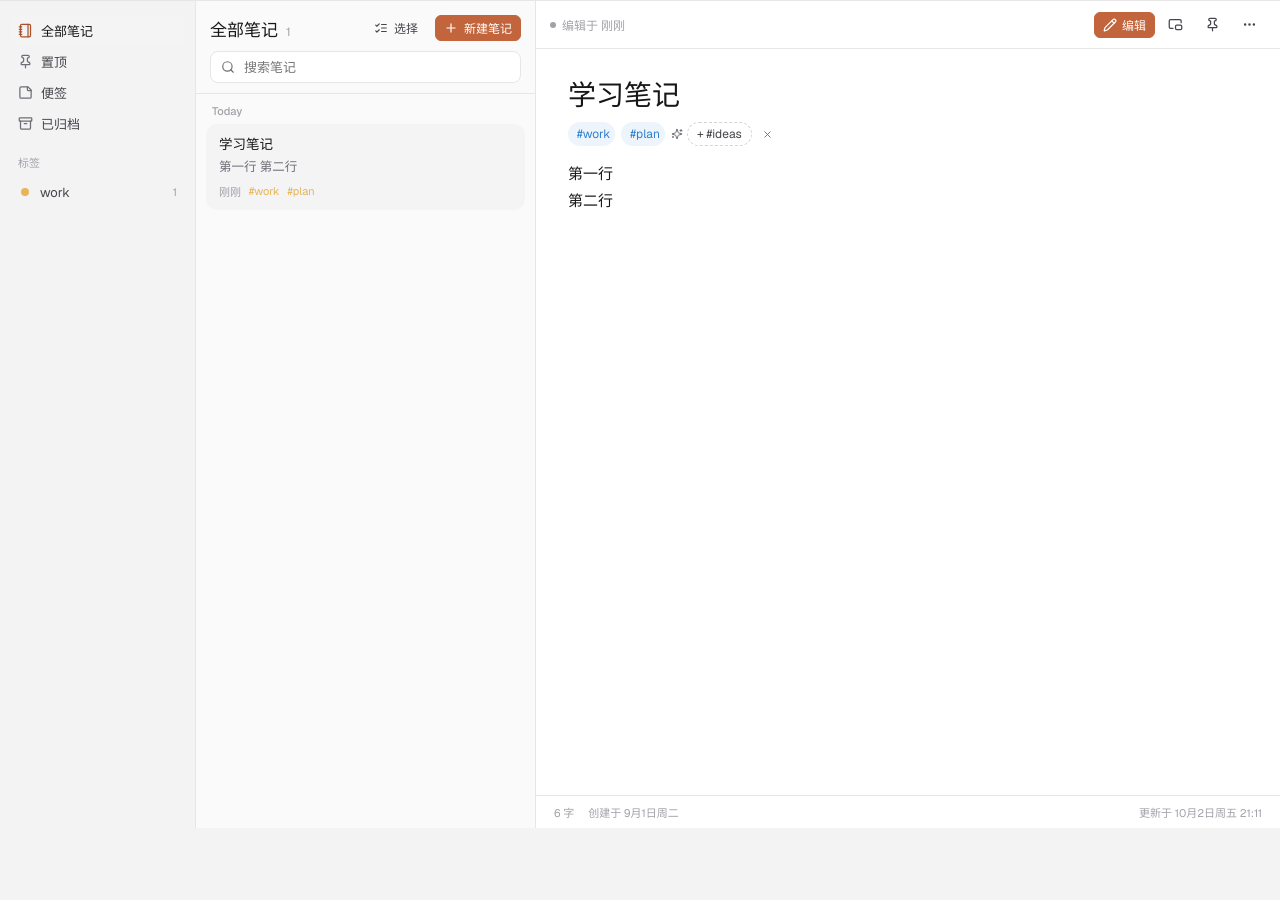
Scenario: NotesPage › replaces the body with the polished text and fills the title
Click the button "编辑": (1124, 24) [1094,12,1155,38]
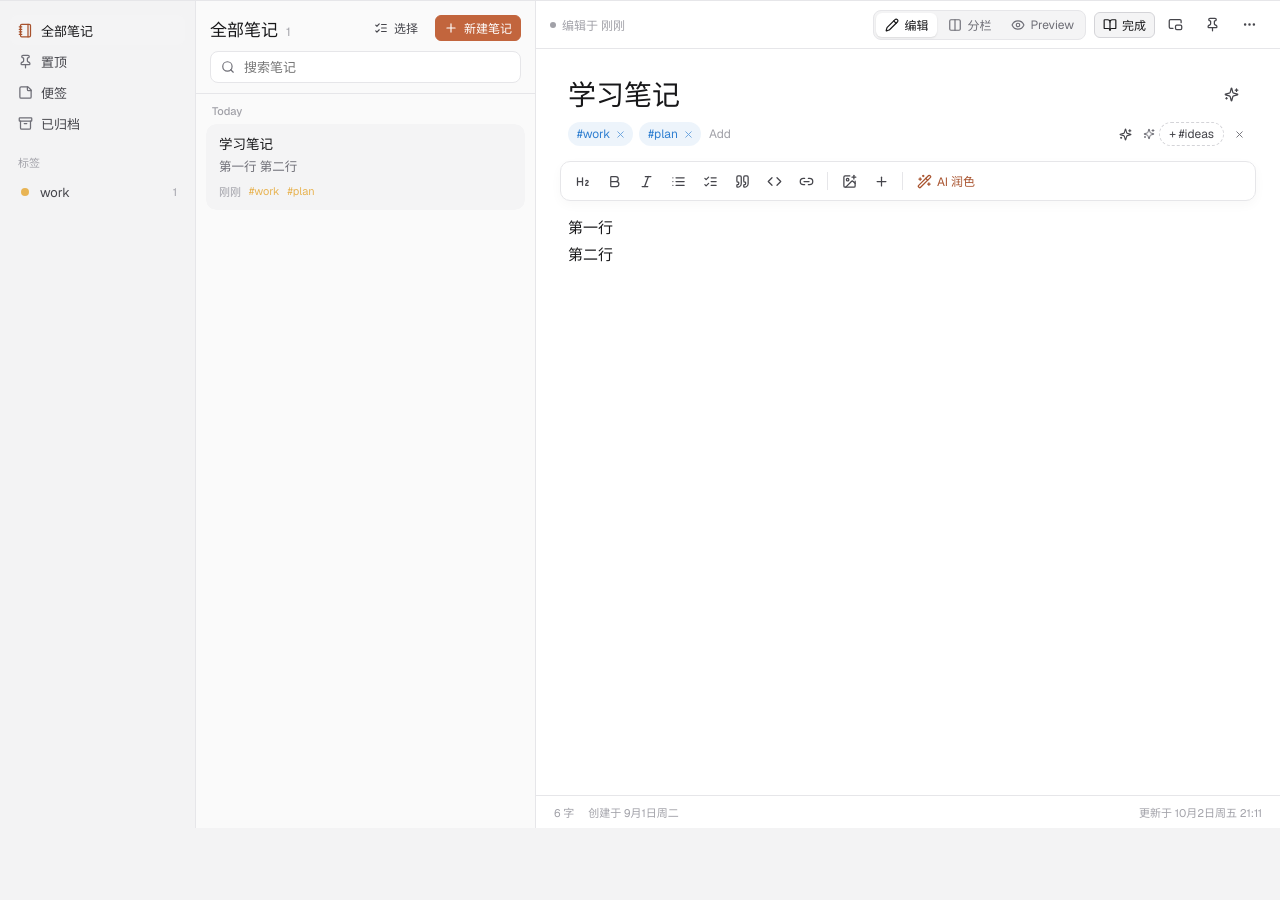
Click the button "AI 润色": (946, 181) [909,167,983,195]
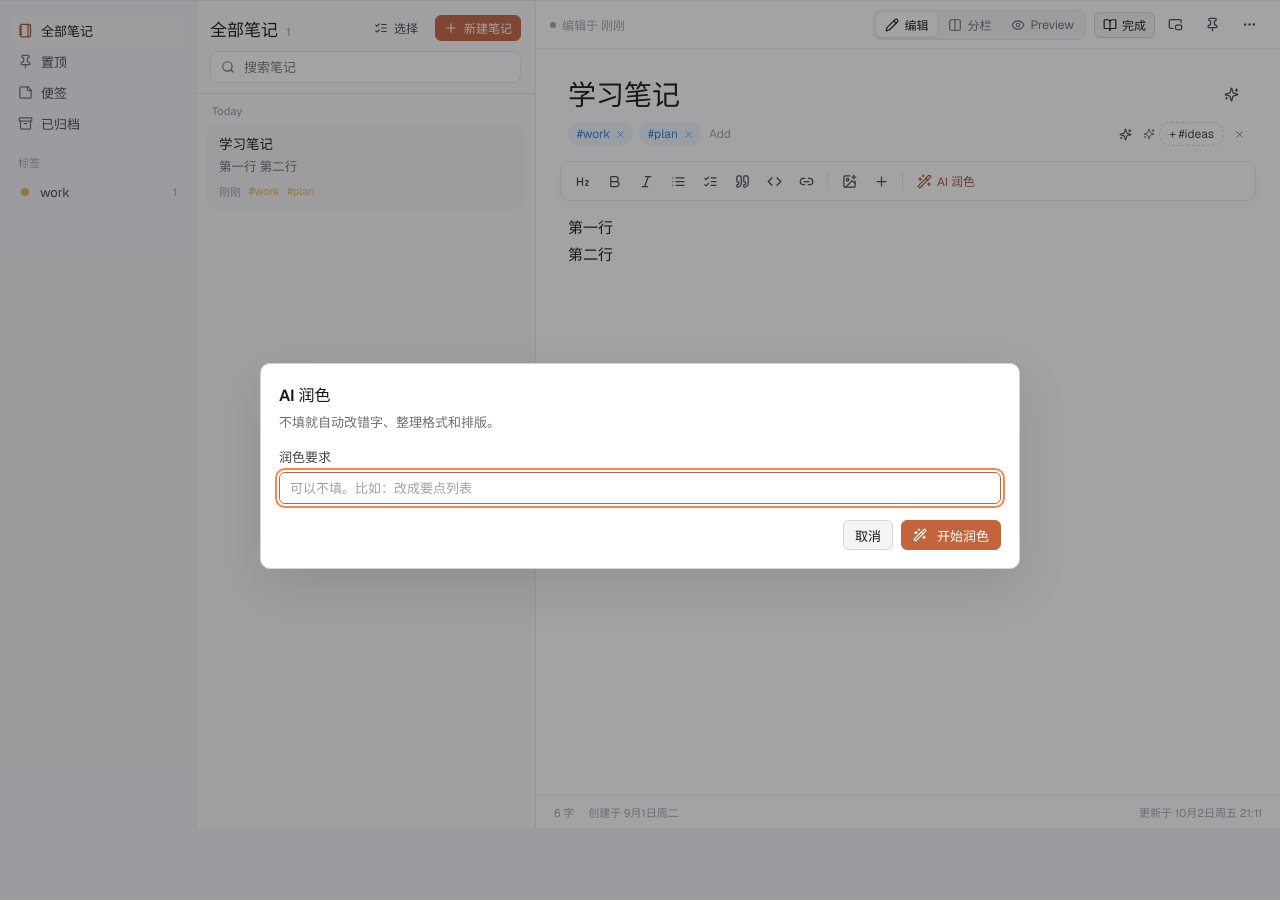
In the field labelled "润色要求": (640, 488) [279,472,1001,504], type "改成列表"
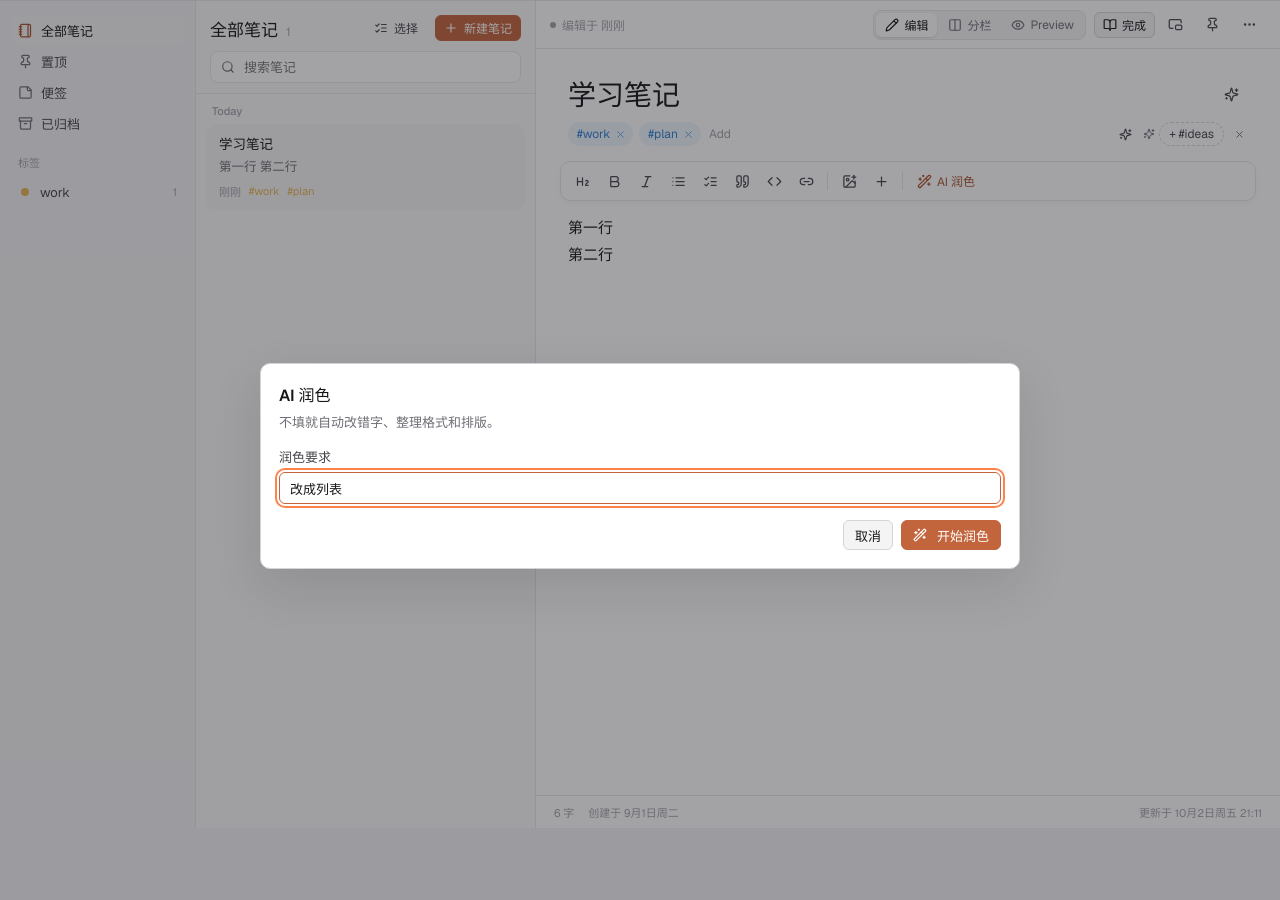
Click the button "开始润色": (951, 535) [901,520,1001,550]
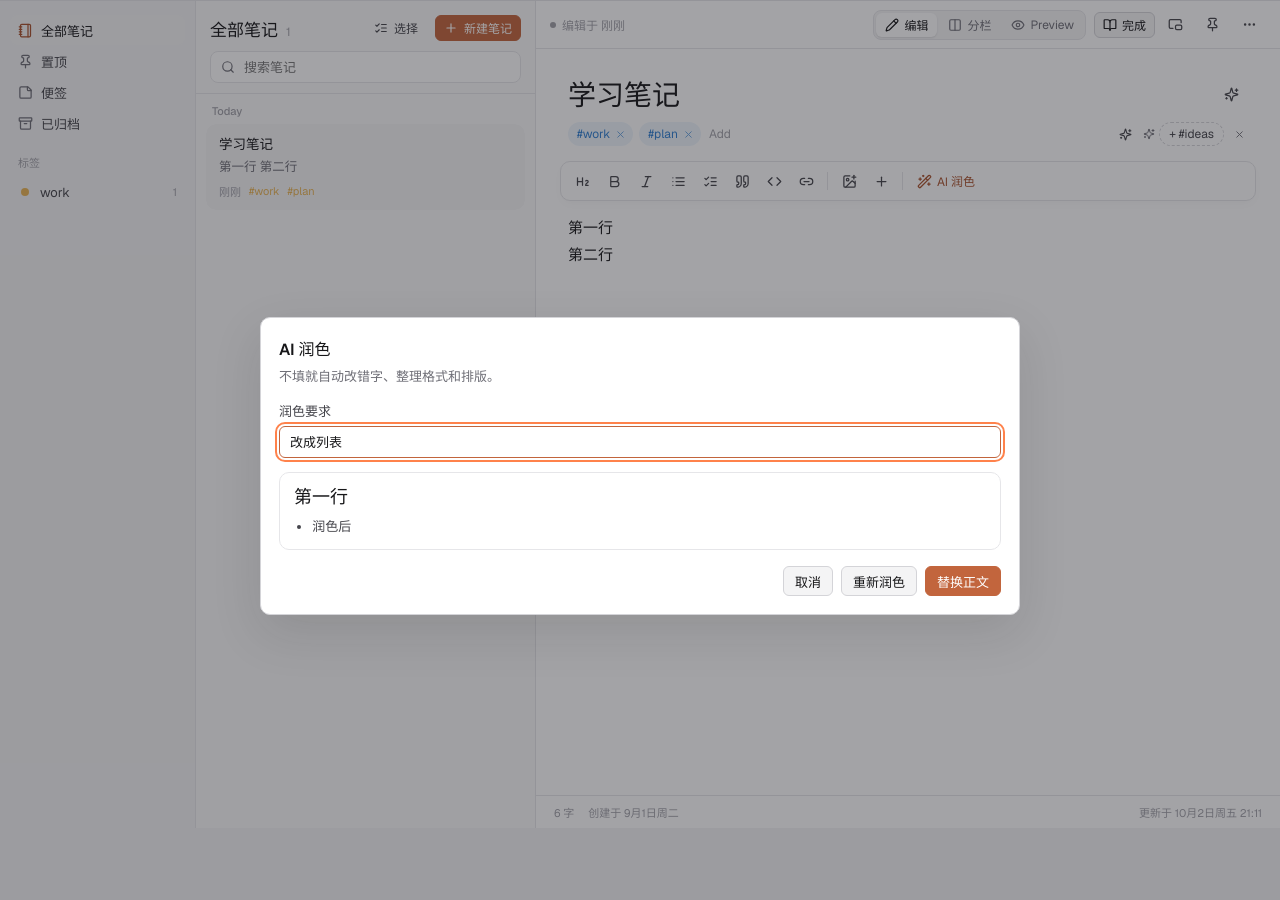
Click the button "替换正文": (963, 582) [925,566,1001,596]
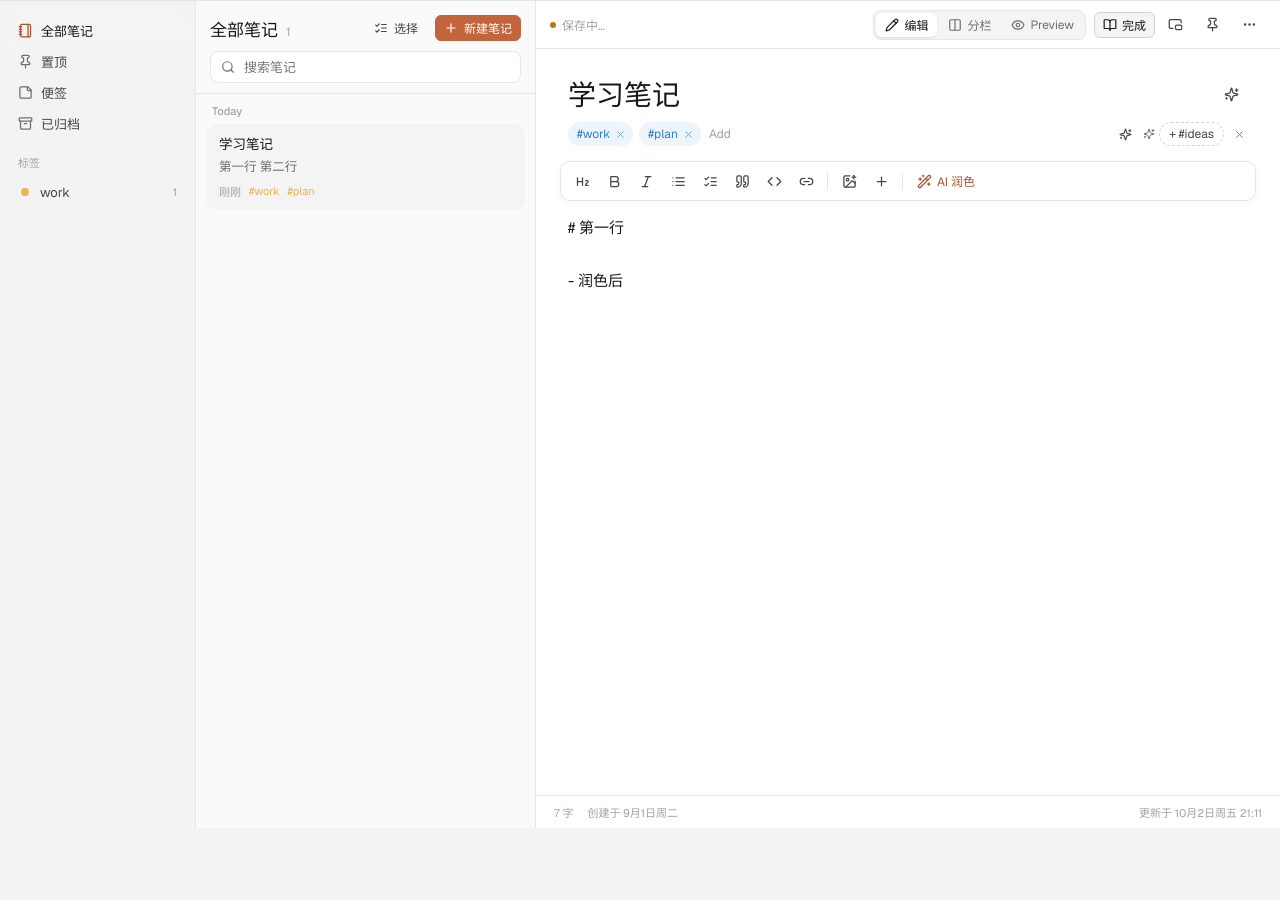
Click the button named "用 AI 生成标题": (1232, 94) [1215,81,1248,107]
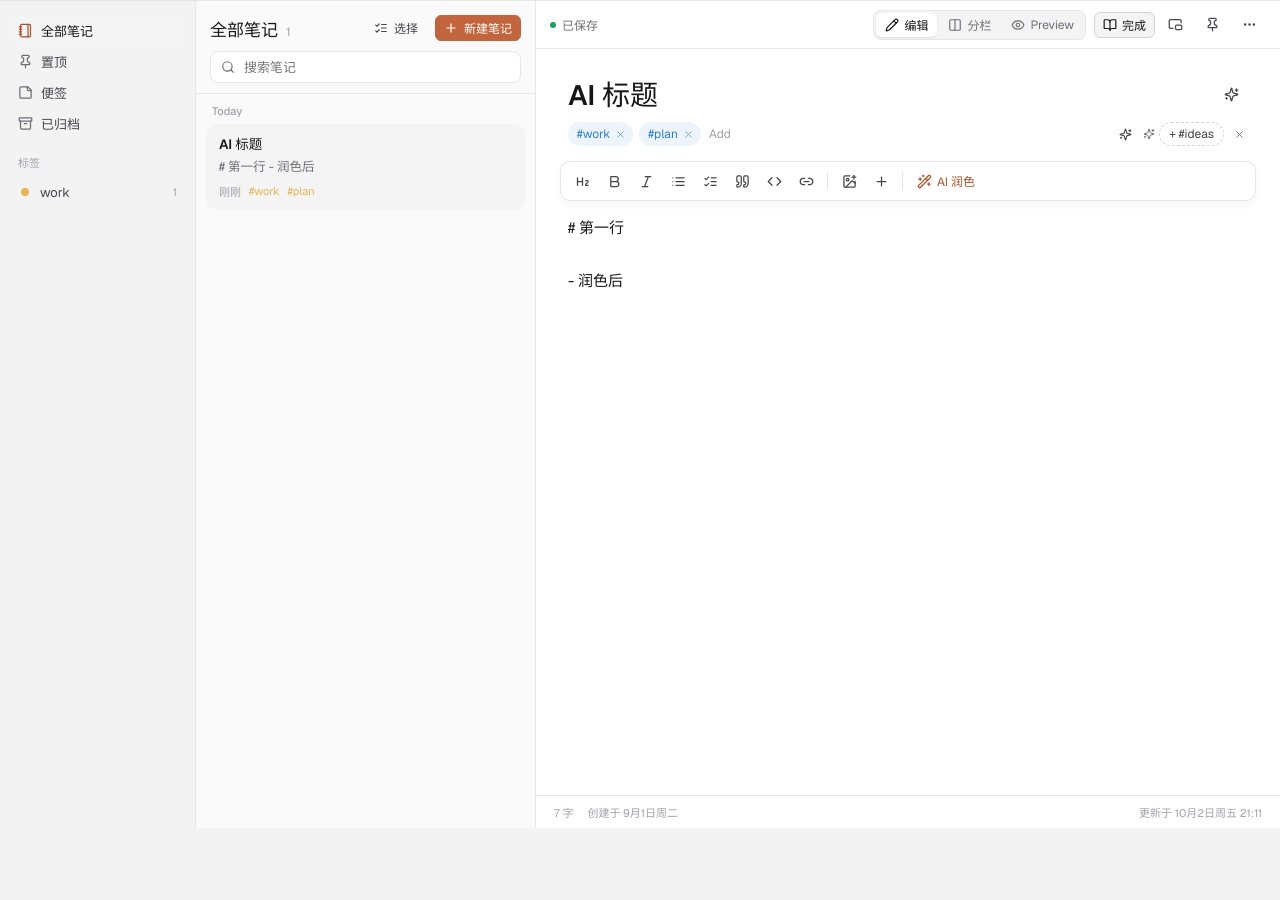
Result: the field with class "notes-title-input" holds "AI 标题" at [568,77,1209,113]
